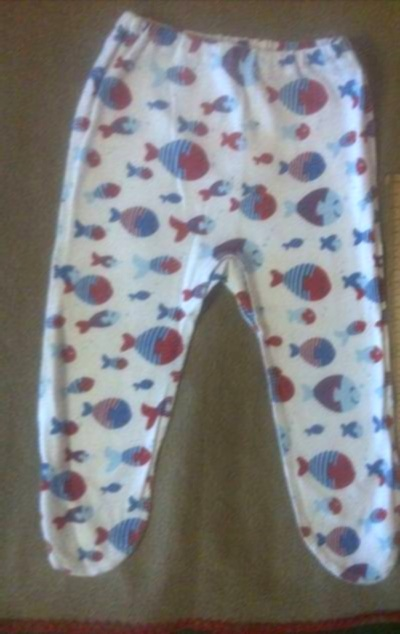Pants: (26, 19, 389, 595)
